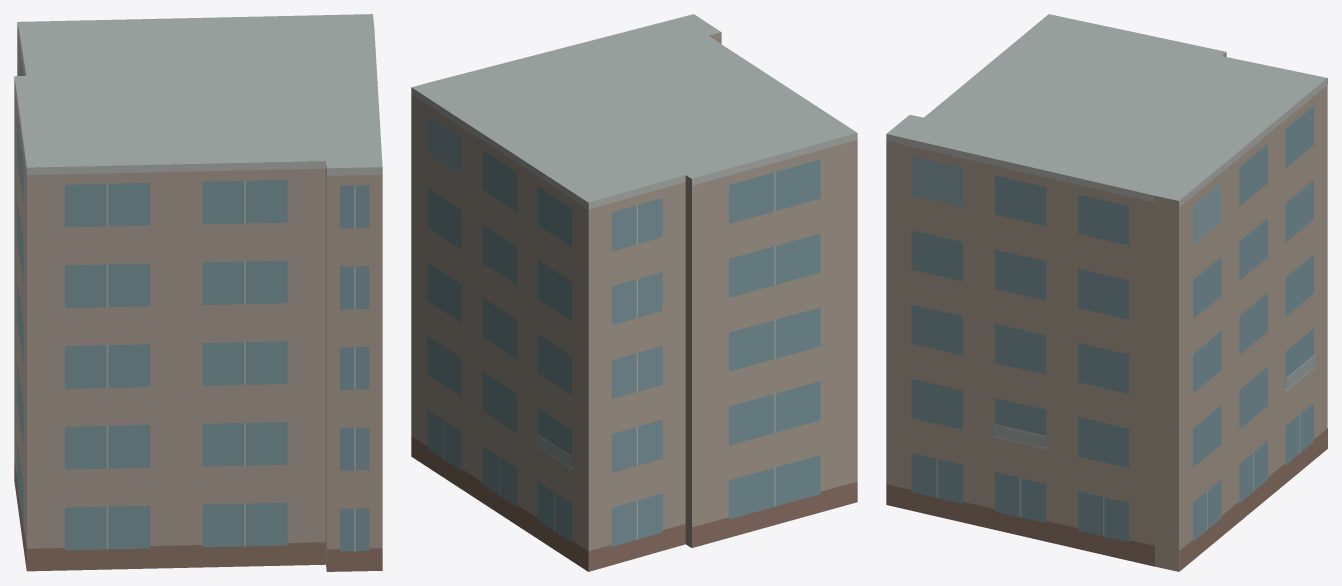
Rendered from survey-upis-32656509.glb.
The picture shows the model from 3 angles, left to right: view 1: azimuth 30°, elevation 25°; view 2: azimuth 150°, elevation 25°; view 3: azimuth 270°, elevation 25°; orthographic projection. The views are drawn at different scales.
Visible parts, largest first — view 1: survey-upis-32656509.tmp; view 2: survey-upis-32656509.tmp; view 3: survey-upis-32656509.tmp.
Part boxes in pixels (left/top/right/bottom): survey-upis-32656509.tmp: left=14, top=14, right=382, bottom=571; survey-upis-32656509.tmp: left=411, top=14, right=857, bottom=571; survey-upis-32656509.tmp: left=886, top=14, right=1327, bottom=571.
Bounding box in the file's own units: 14.17 × 13.1 × 14.14.
